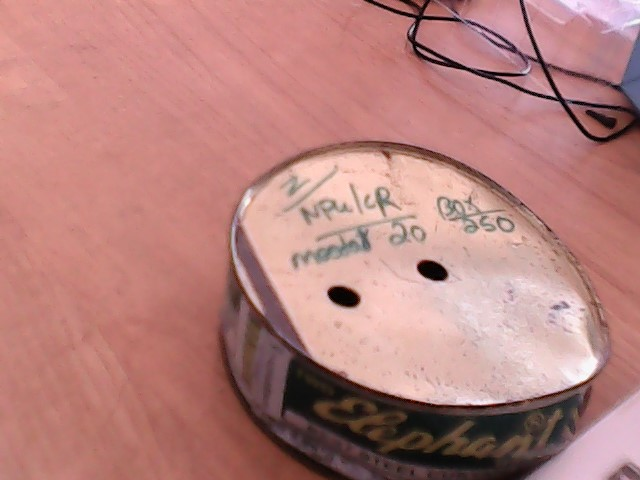Metal: (211, 135, 635, 471)
